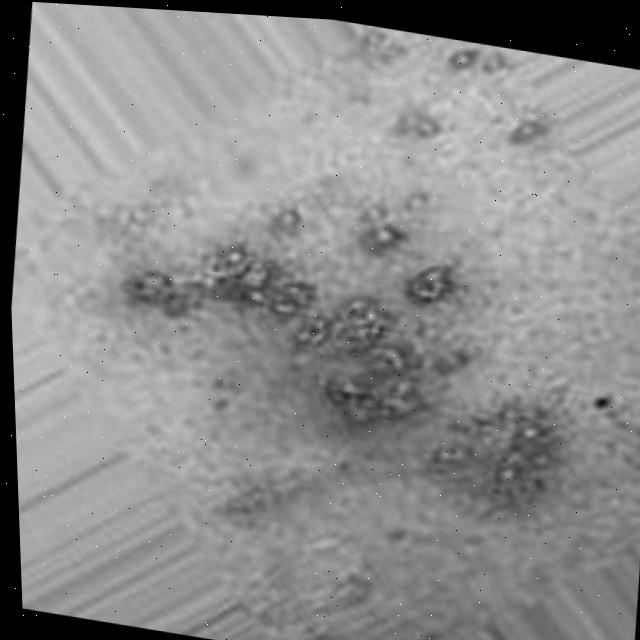Shingles: (105, 197, 579, 515)
